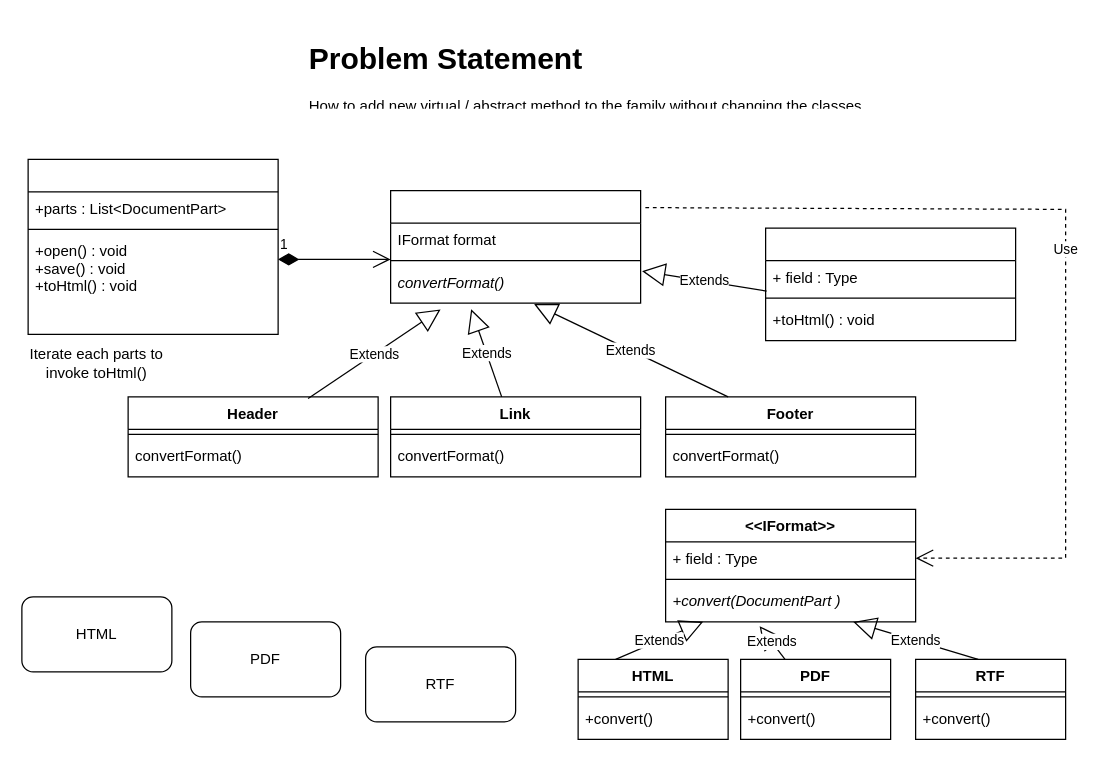
This 1105x764 diagram has some shape labels left out. The box of each missing label's shape, as (x1, y1, x2, y2) in pixels:
Document: (27, 158, 278, 334)
DocumentPart: (389, 189, 641, 303)
Paragraph: (764, 227, 1016, 341)
